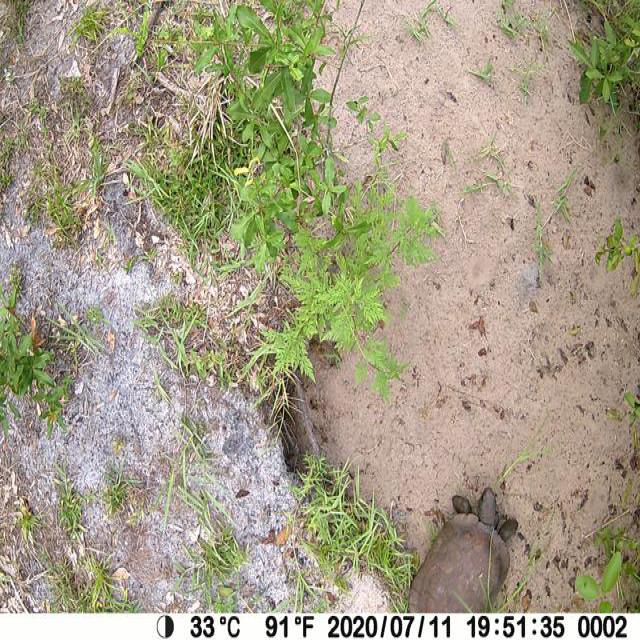tortoise: (408, 485, 519, 611)
